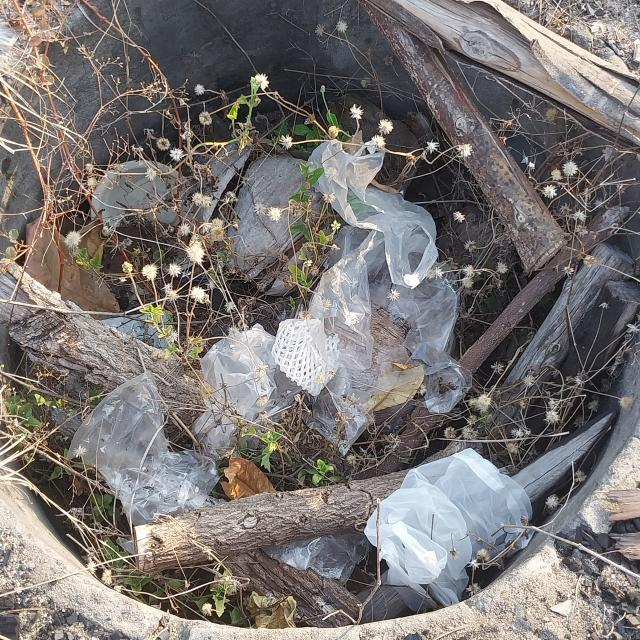Single-layer Plastic: (366, 461, 546, 621), (68, 371, 219, 525), (309, 140, 438, 289), (192, 324, 301, 459), (389, 278, 472, 414), (309, 231, 384, 369), (91, 160, 180, 228), (264, 531, 370, 584), (271, 319, 339, 396)
